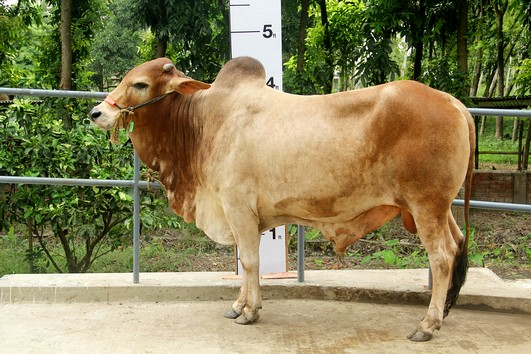cow: (86, 45, 481, 344)
